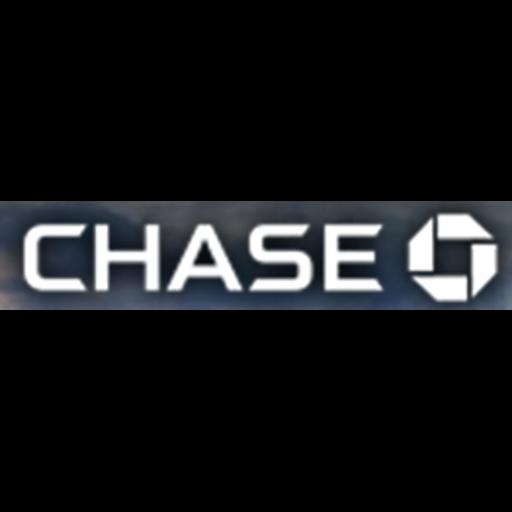Chase Personal Banking: (0, 201, 512, 310)
